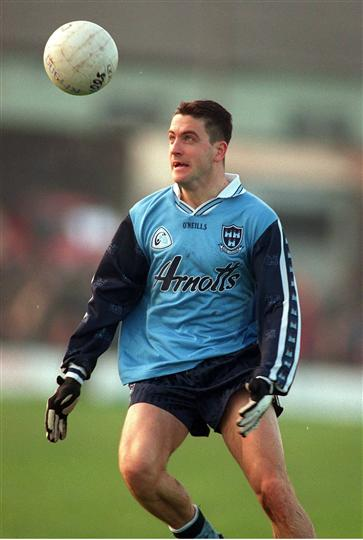ball: (38, 18, 116, 98)
player: (118, 85, 307, 520)
